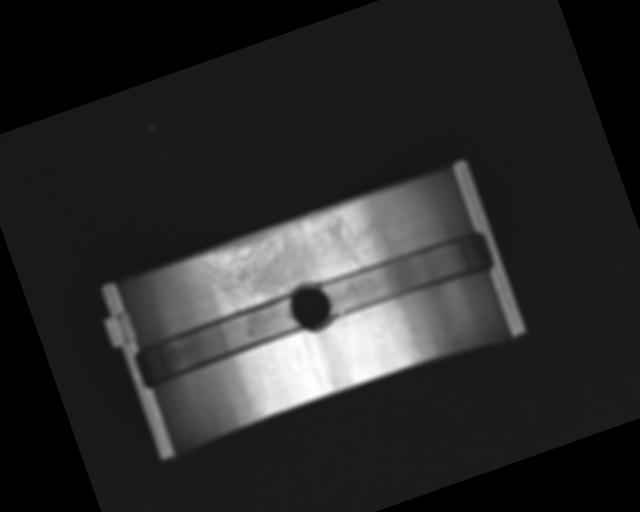gap: (317, 225, 495, 324), (131, 297, 303, 387)
hole: (286, 278, 337, 338)
scratch: (197, 199, 378, 319)
